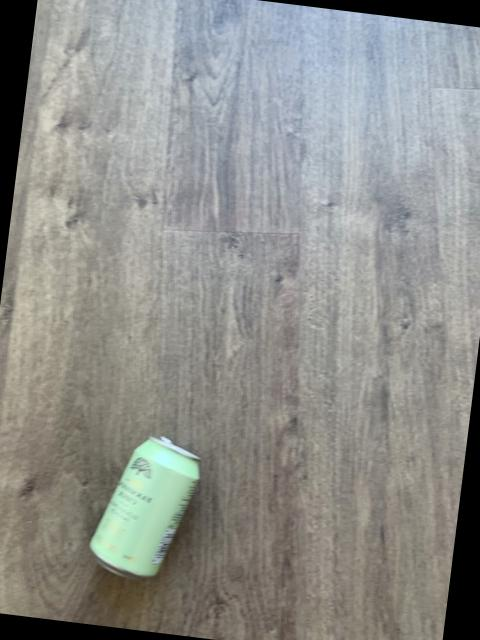metal: (92, 435, 202, 576)
